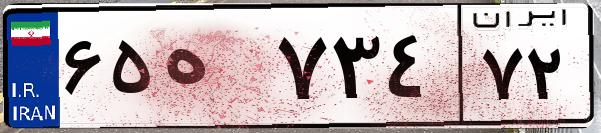2: (525, 38, 570, 115)
3: (330, 28, 385, 110)
4: (385, 28, 445, 110)
5: (110, 28, 158, 98)
6: (57, 26, 110, 100)
7: (270, 28, 330, 110), (475, 38, 525, 113)
ه: (158, 20, 270, 120)
